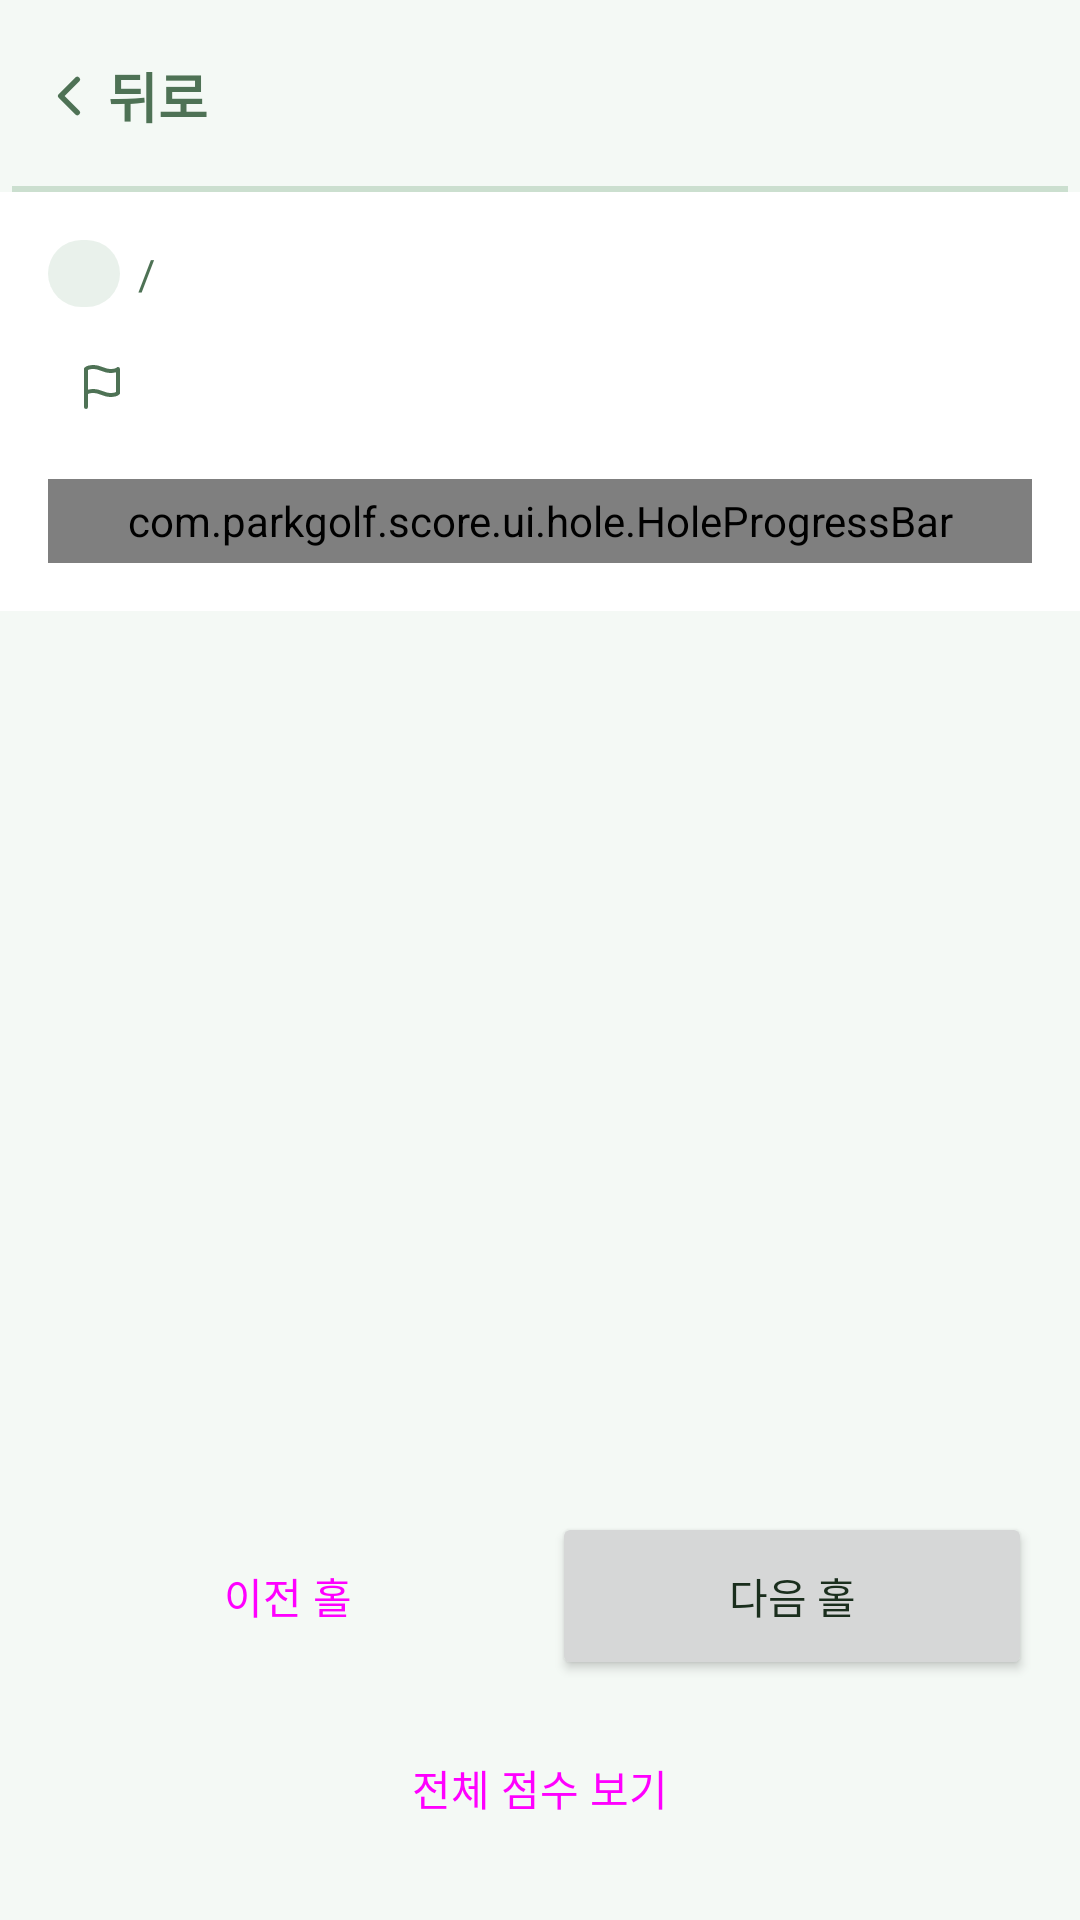

Icons on this 1080w x 1920h Android screen, each with the point to tap as [x,y]:
chevron left: [69,96]
flag: [102,387]
